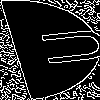U: (24, 25, 100, 69)
